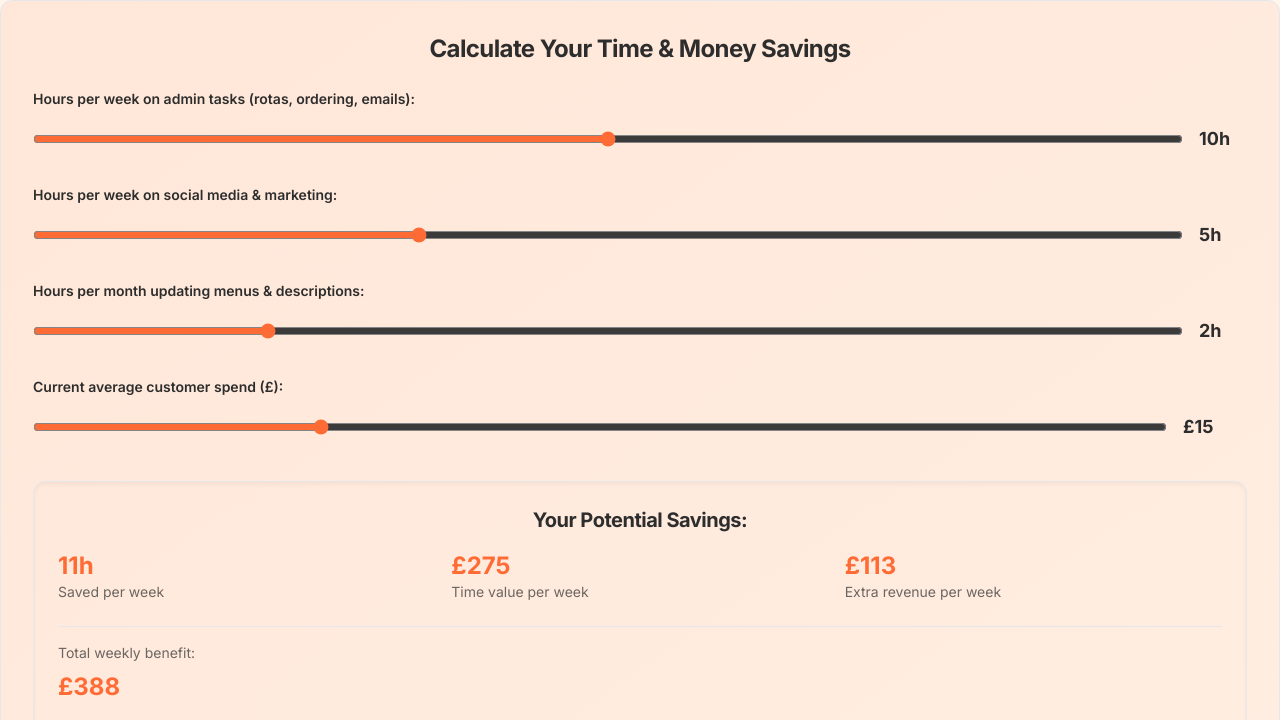
Scenario: ROICalculator Component › updates calculations when slider values change
Set the slider next to "10" to "20" at [1175, 139], box [33,117,1183,161]
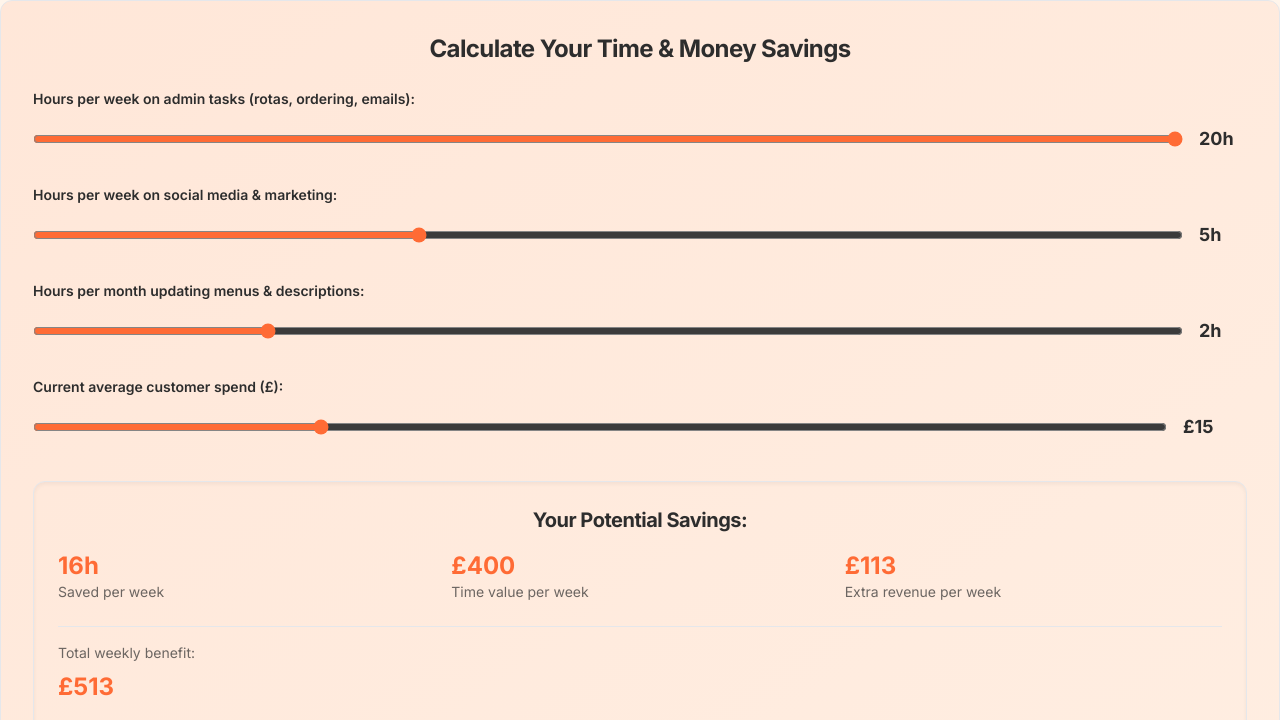
Now the text "20h" is shown, box [1199,128,1234,149]
